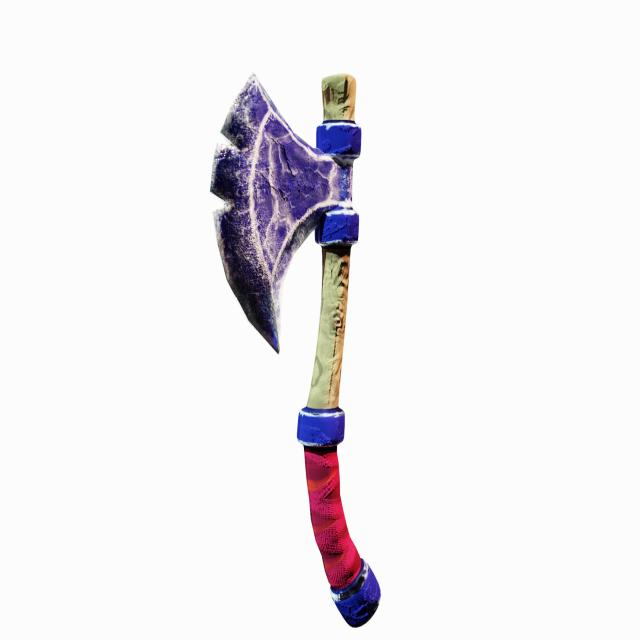Gun: (197, 56, 405, 634)
